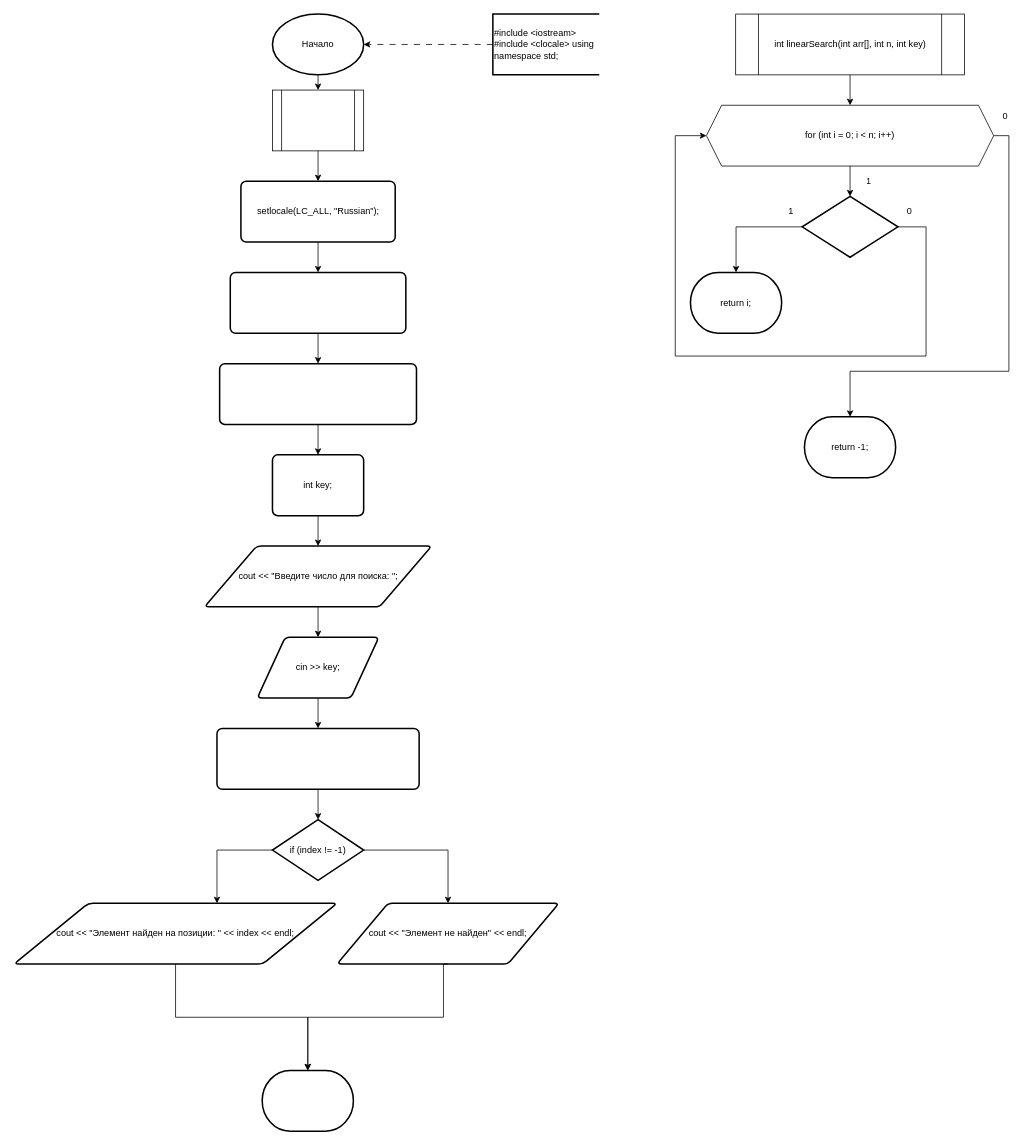
Some shapes in this 1029 by 1145 pixel diagram are drawn without their labels. The shapes that lost their labels are listed below. From the top down, each one's centre as x and y in pixels, then its label:
At pixel 318 120: "int main()".
At pixel 849 226: "if (arr[i] == key)".
At pixel 317 302: "int arr[] = {2, 4, 6, 8, 10, 12};".
At pixel 317 394: "int n = sizeof(arr) / sizeof(arr[0]);".
At pixel 318 758: "int index = linearSearch(arr, n, key);".
At pixel 307 1100: "return 0;".
